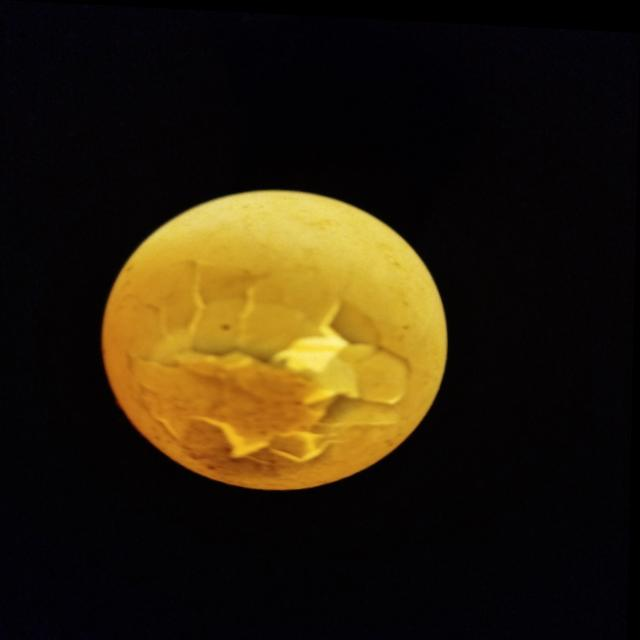Rachadura: (127, 253, 420, 466)
